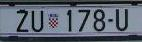-: (108, 18, 113, 23)
1: (67, 9, 72, 32)
7: (77, 10, 90, 32)
8: (94, 9, 106, 31)
U: (31, 10, 44, 32), (116, 9, 128, 31)
Z: (16, 10, 29, 32)
